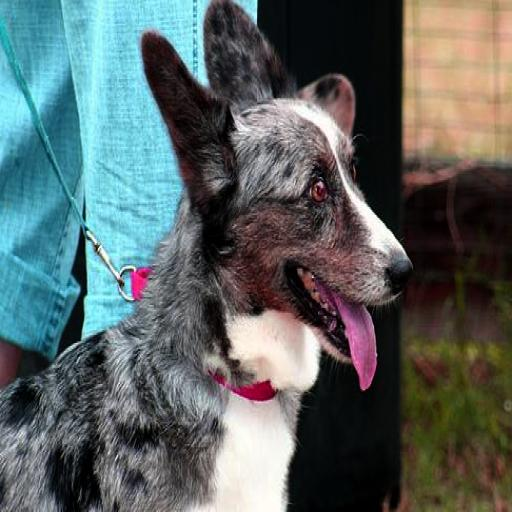dog_face: (140, 6, 397, 368)
